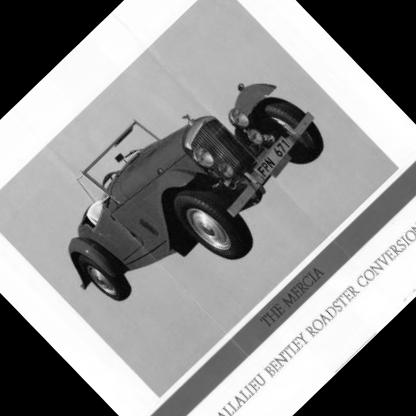car: (11, 9, 357, 352)
